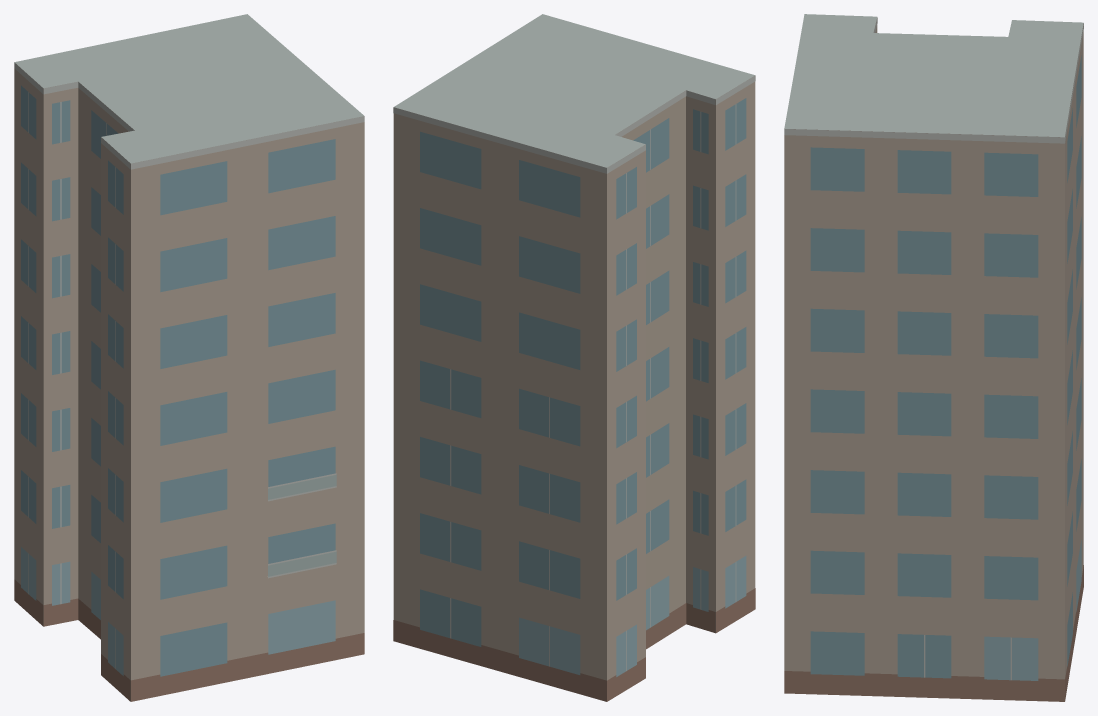
File: survey-upis-32663426.glb
3 views of the same model, side by side, from view 1: azimuth 30°, elevation 25°; view 2: azimuth 150°, elevation 25°; view 3: azimuth 270°, elevation 25° (orthographic). The views are drawn at different scales.
Visible parts, largest first — view 1: survey-upis-32663426.tmp; view 2: survey-upis-32663426.tmp; view 3: survey-upis-32663426.tmp.
Boxes of the visible parts, x1,y1,x2,y2 form: survey-upis-32663426.tmp: (14, 14, 364, 701); survey-upis-32663426.tmp: (393, 14, 755, 701); survey-upis-32663426.tmp: (784, 14, 1083, 701).
Size of the model in its own units: 10.15 by 21.65 by 10.42.
